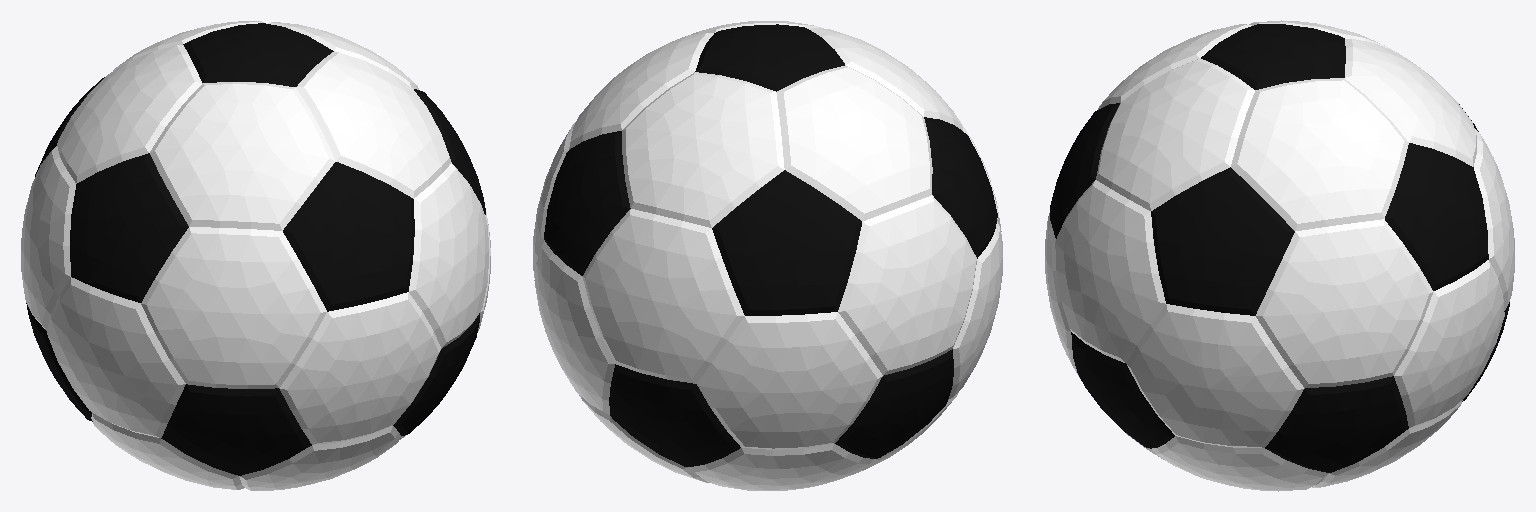
Rendered from soccerball.obj.
The picture shows the model from 3 angles: view 1: azimuth 30°, elevation 25°; view 2: azimuth 150°, elevation 25°; view 3: azimuth 270°, elevation 25°; orthographic projection.
Parts seen in each view (by area): view 1: white, black; view 2: white, black; view 3: white, black.
Part boxes in pixels (x1,y1,x2,y2): white: (21,21,490,490); black: (26,23,485,475); white: (533,21,1002,490); black: (544,24,997,466); white: (1045,20,1514,491); black: (1050,24,1509,472).
Bounding box in the file's own units: 2.9 × 2.91 × 2.91.